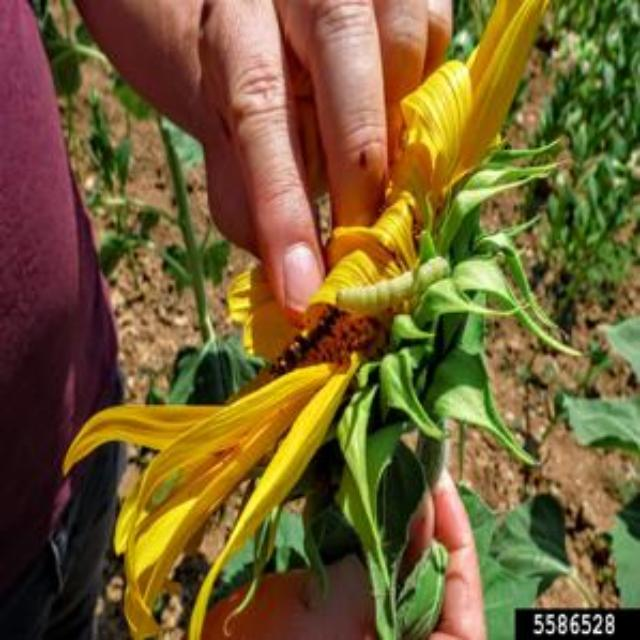Cotton bollworm: (326, 250, 462, 322)
